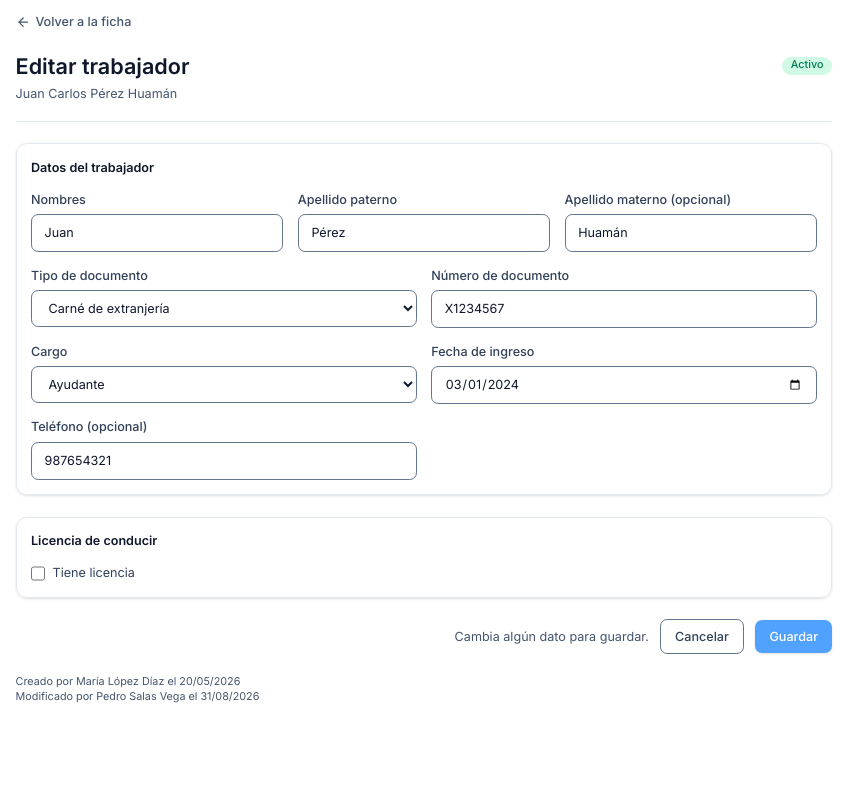
Test: WorkerEditPage › lo que viaja › de opcional a uno que la exige y de vuelta, con la licencia escrita, la casilla queda marcada
Expected: the checkbox labelled "Tiene licencia" is not checked, [31,566,45,581]
Select "Conductor" in the dropdown labelled "Cargo" at (224, 384), box [31,366,417,403]
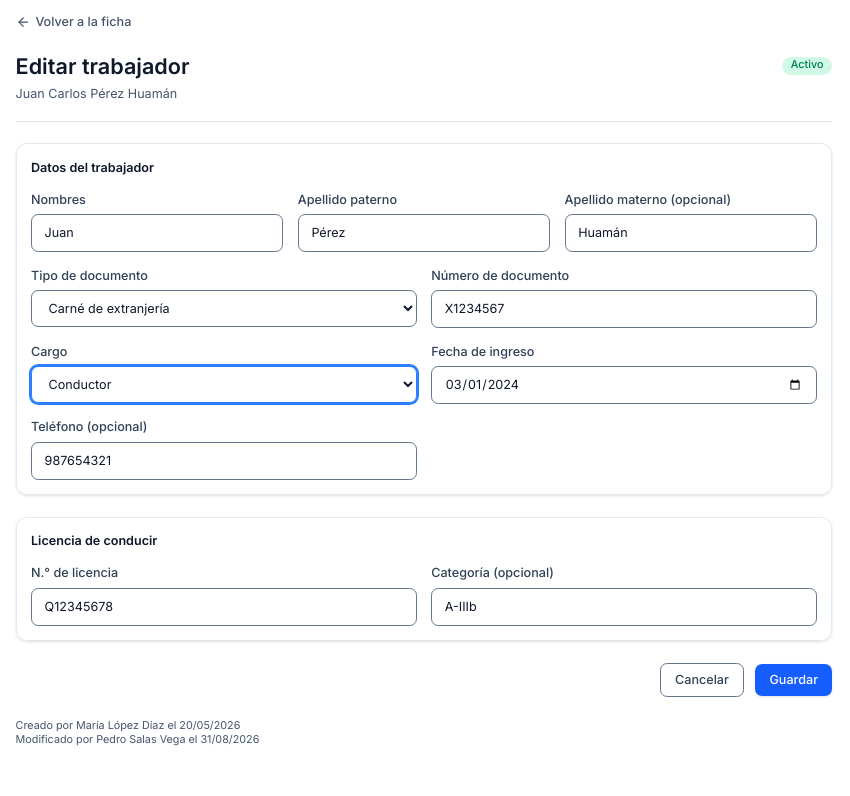
Select "Ayudante" in the dropdown labelled "Cargo" at (224, 384), box [31,366,417,403]
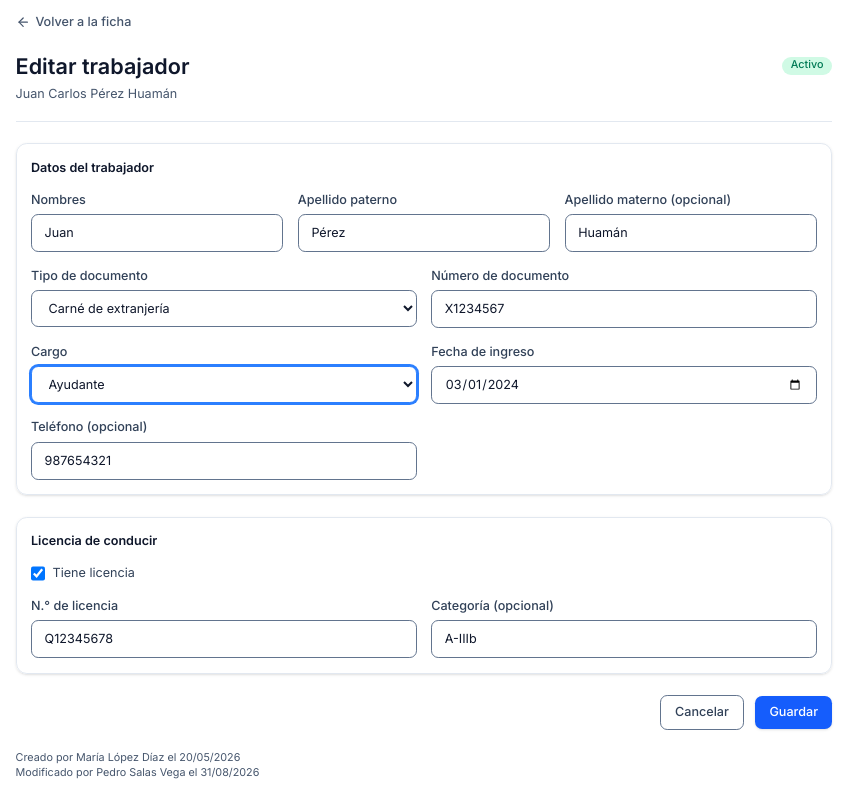
Expected: the checkbox labelled "Tiene licencia" is checked, [31,566,45,581]
